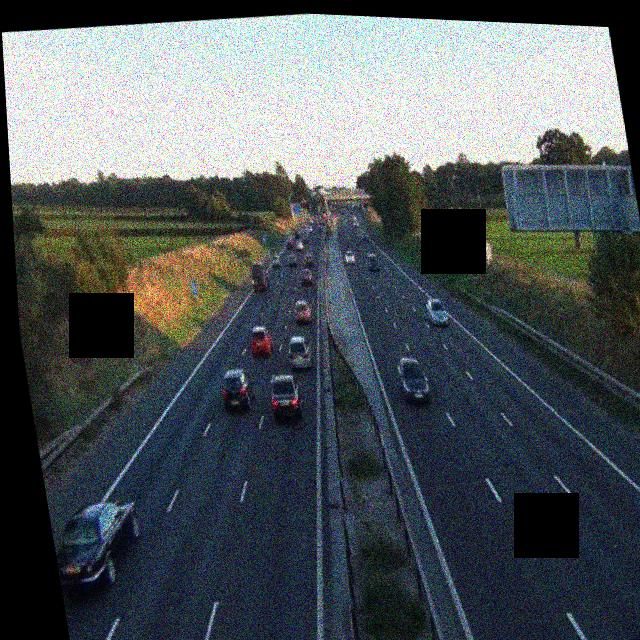car: (47, 495, 150, 597), (265, 372, 305, 422), (394, 355, 432, 407), (218, 366, 256, 413), (286, 333, 313, 369), (247, 324, 273, 357), (423, 295, 448, 328), (290, 297, 312, 326), (299, 266, 314, 285), (366, 252, 379, 272), (344, 249, 356, 265), (272, 248, 284, 264), (302, 252, 314, 267), (287, 253, 297, 268), (284, 237, 294, 250)
truck: (248, 259, 272, 292)
